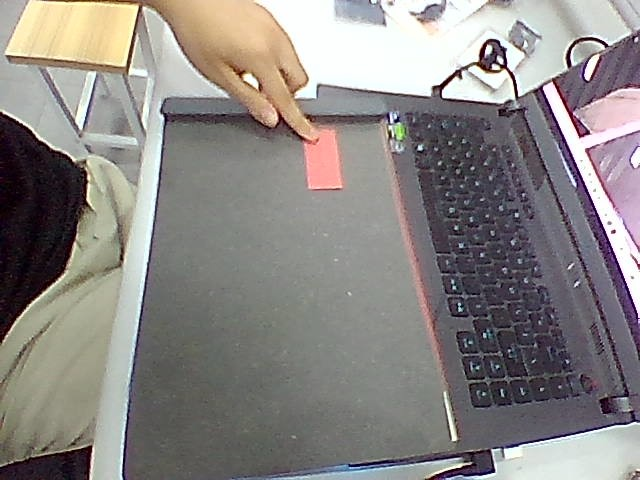card: (305, 129, 342, 188)
